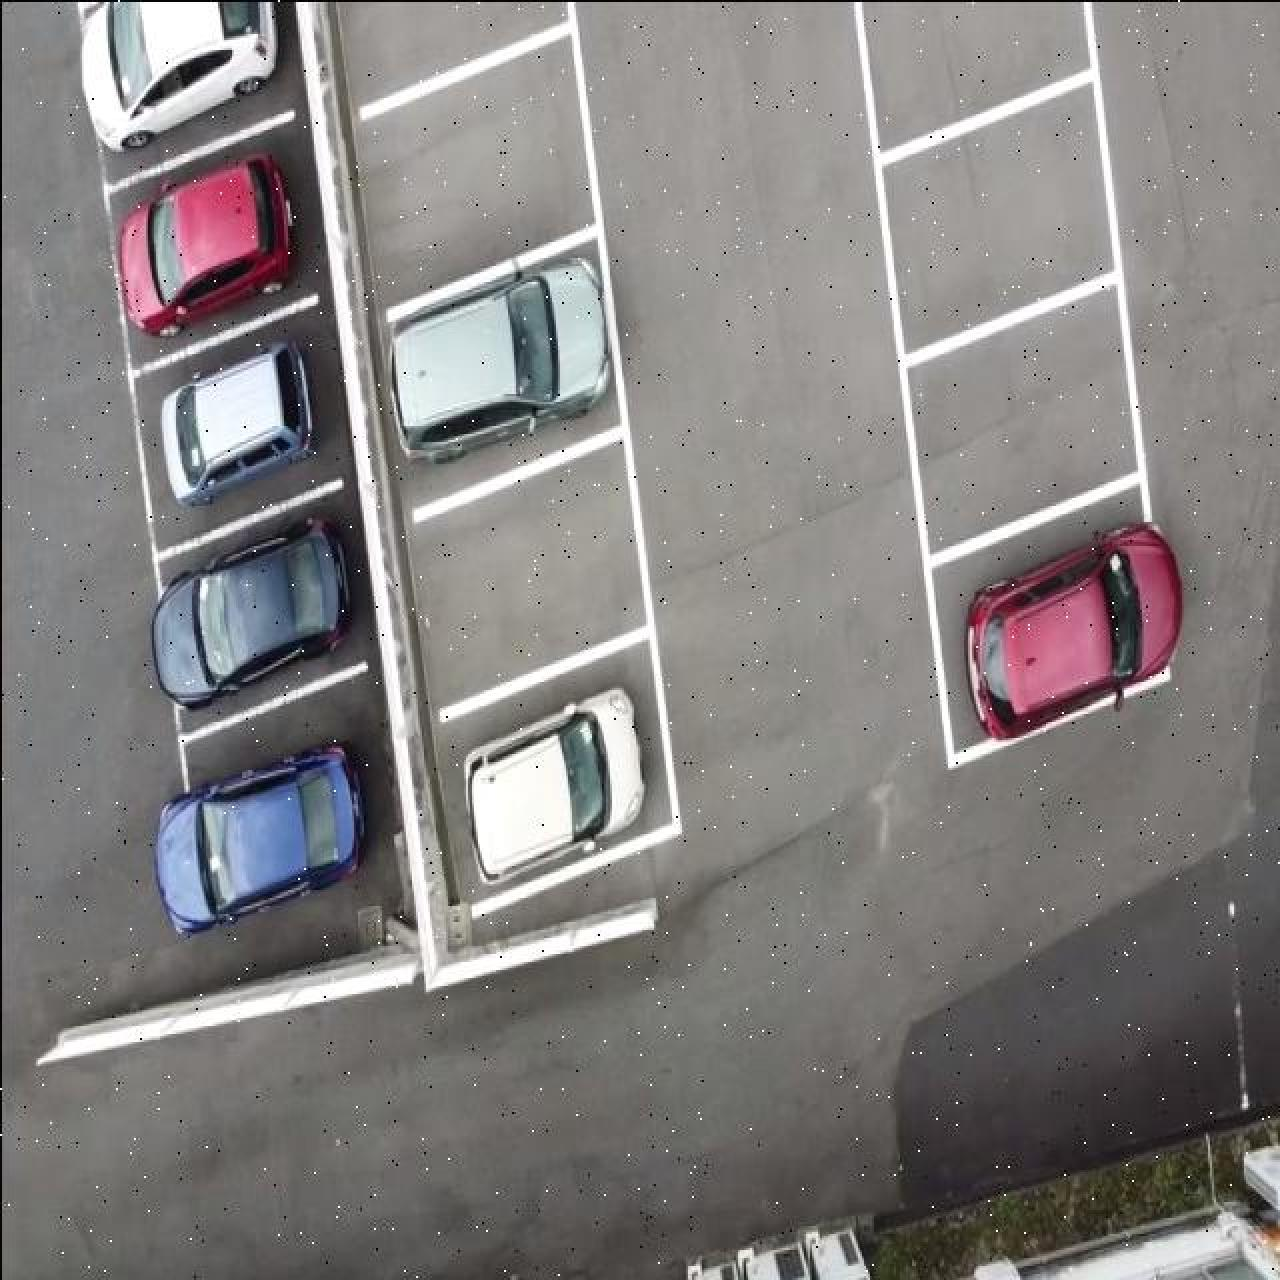car: (964, 520, 1182, 740), (386, 252, 610, 464), (152, 742, 366, 938), (150, 515, 352, 708), (459, 686, 646, 884), (116, 150, 297, 338), (79, 0, 280, 152), (159, 340, 314, 506), (972, 1201, 1278, 1278), (685, 1223, 872, 1278)
